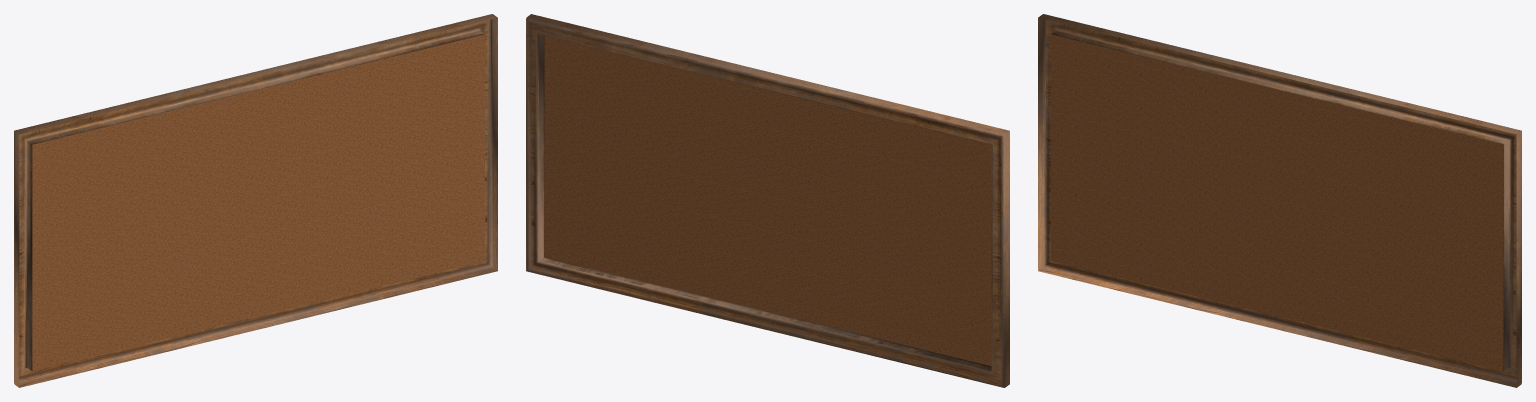
The model's file is model_of_cork_pin_board.glb.
3 renders of one model, left to right at view 1: azimuth 30°, elevation 25°; view 2: azimuth 150°, elevation 25°; view 3: azimuth 330°, elevation 25°, orthographic.
Parts seen in each view (by area): view 1: Plane; view 2: Plane; view 3: Plane.
Part boxes in pixels (x1,y1,x2,y2): Plane: (14,14,497,387); Plane: (526,14,1009,387); Plane: (1038,14,1521,387).
Bounding box in the file's own units: 395 × 200 × 8.68.
1 material, 1 textured.
